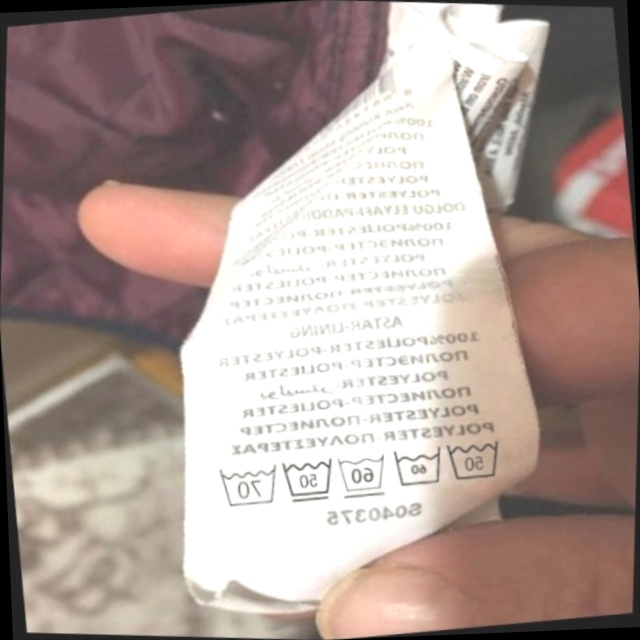50C: (436, 425, 513, 493), (272, 448, 343, 513)
60C: (327, 443, 394, 506), (383, 436, 451, 498)
70C: (207, 454, 284, 517)
